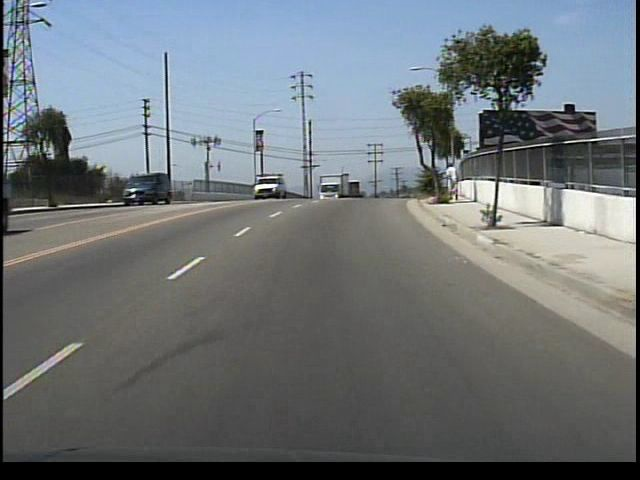person: (443, 159, 463, 204)
